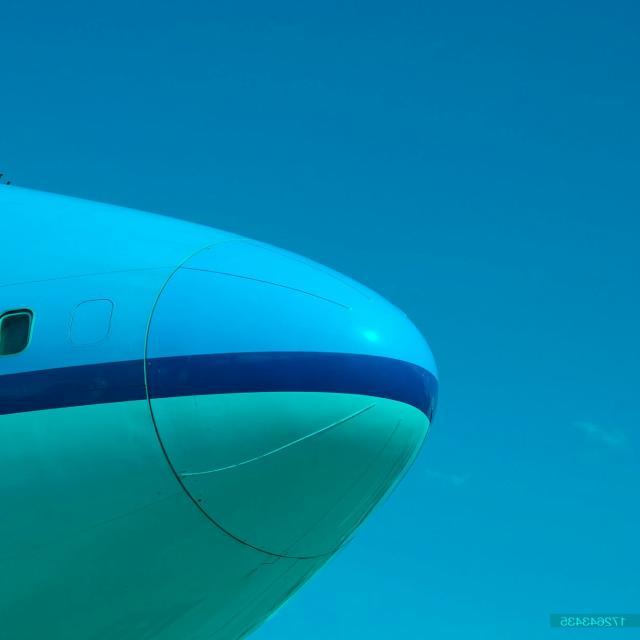crack: (254, 558, 290, 568)
